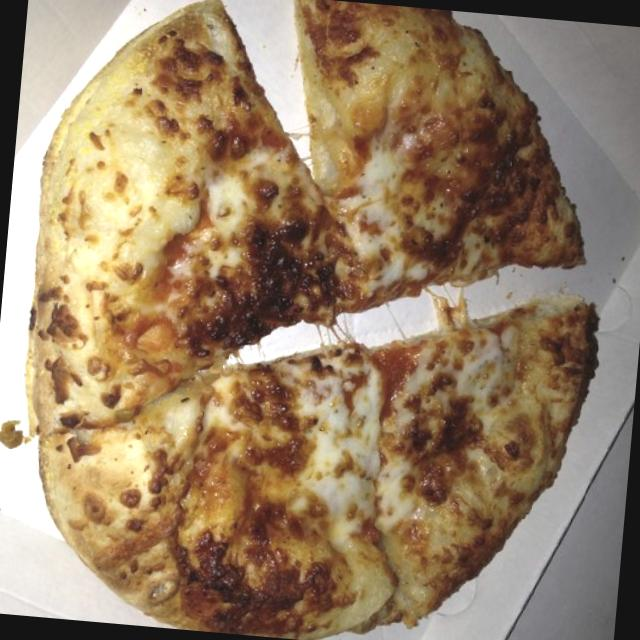pizza: (38, 0, 595, 640)
